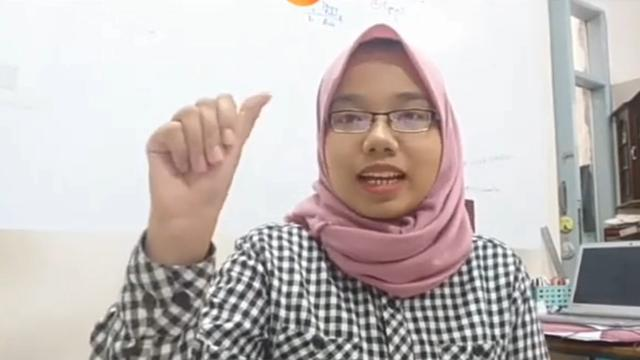A: (143, 88, 273, 222)
